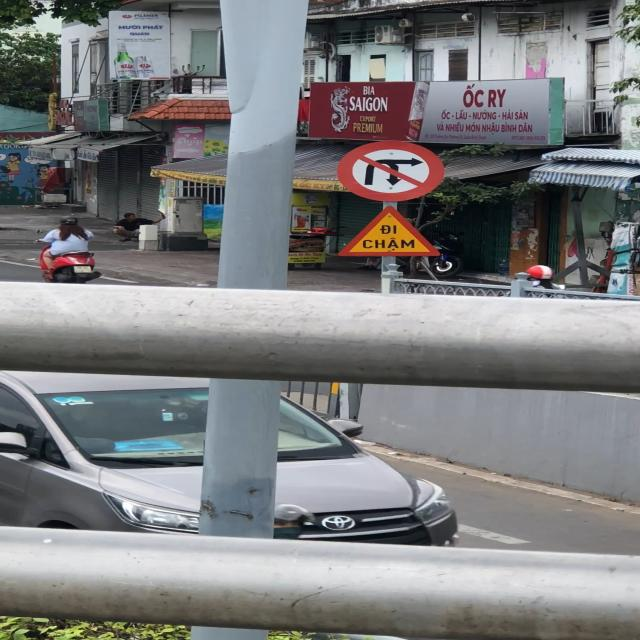Bien bao cam re phai va quay dau: (332, 134, 453, 206)
